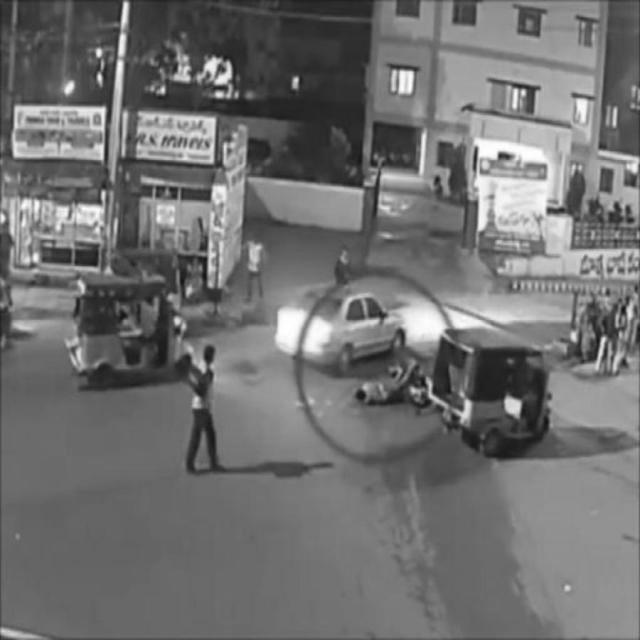person: (182, 346, 222, 477), (243, 236, 267, 307)
vehicle: (429, 325, 551, 453), (70, 274, 192, 388), (276, 288, 410, 366)
